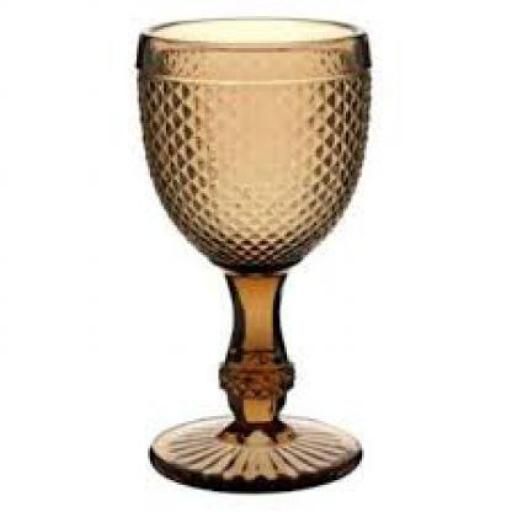glass: (134, 16, 371, 494)
